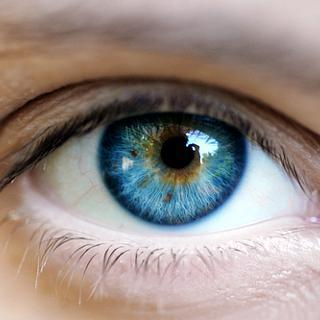pupil: (158, 132, 196, 169)
